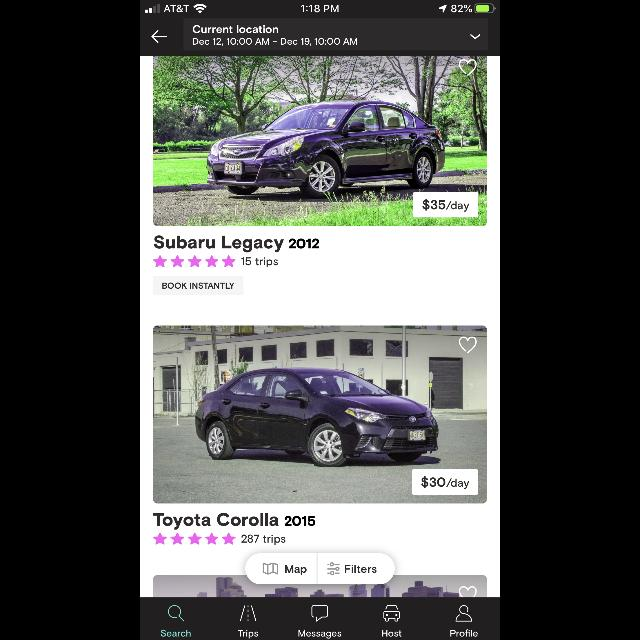icon: (154, 533, 236, 545), (154, 255, 236, 267), (459, 60, 476, 76), (459, 337, 476, 353), (456, 605, 472, 621), (312, 605, 328, 621), (168, 605, 184, 621), (459, 586, 476, 598), (152, 31, 166, 44), (470, 34, 480, 40)
image: (154, 326, 486, 502), (154, 56, 486, 226), (154, 575, 486, 597), (384, 605, 400, 621), (240, 606, 256, 620)
text: (154, 512, 316, 530), (154, 235, 320, 252), (194, 38, 356, 46), (194, 25, 278, 33), (421, 477, 469, 489), (423, 200, 469, 212), (242, 535, 286, 545), (242, 257, 278, 267), (299, 630, 341, 638), (162, 630, 190, 636), (450, 630, 478, 636), (238, 630, 258, 638), (382, 630, 402, 636)
textbutton: (318, 554, 394, 584), (246, 554, 318, 584), (154, 276, 244, 296)
uppertaskbar: (140, 0, 500, 14)
